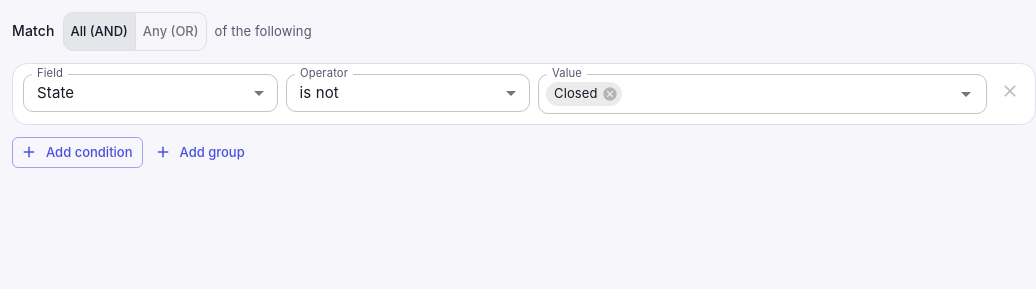
Scenario: FilterBuilder › adds a condition on the next unused field, focuses it and announces the total
This screenshot has width=1036, height=289.
Click the button "Add condition": (77,152) [12,137,142,168]
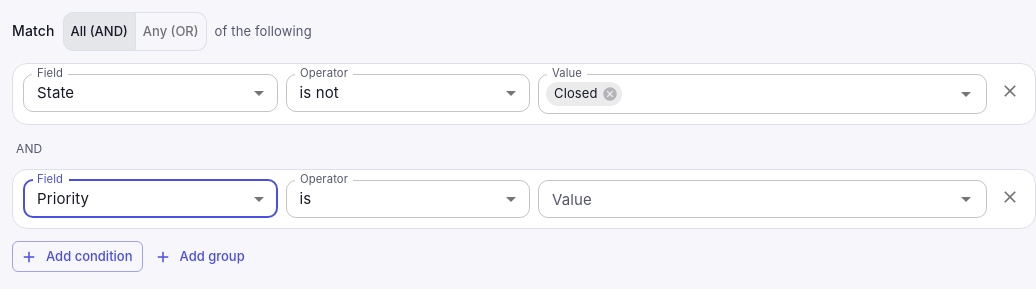
Expected: the dropdown named "Field" reads "Priority", [37,189,89,208]
